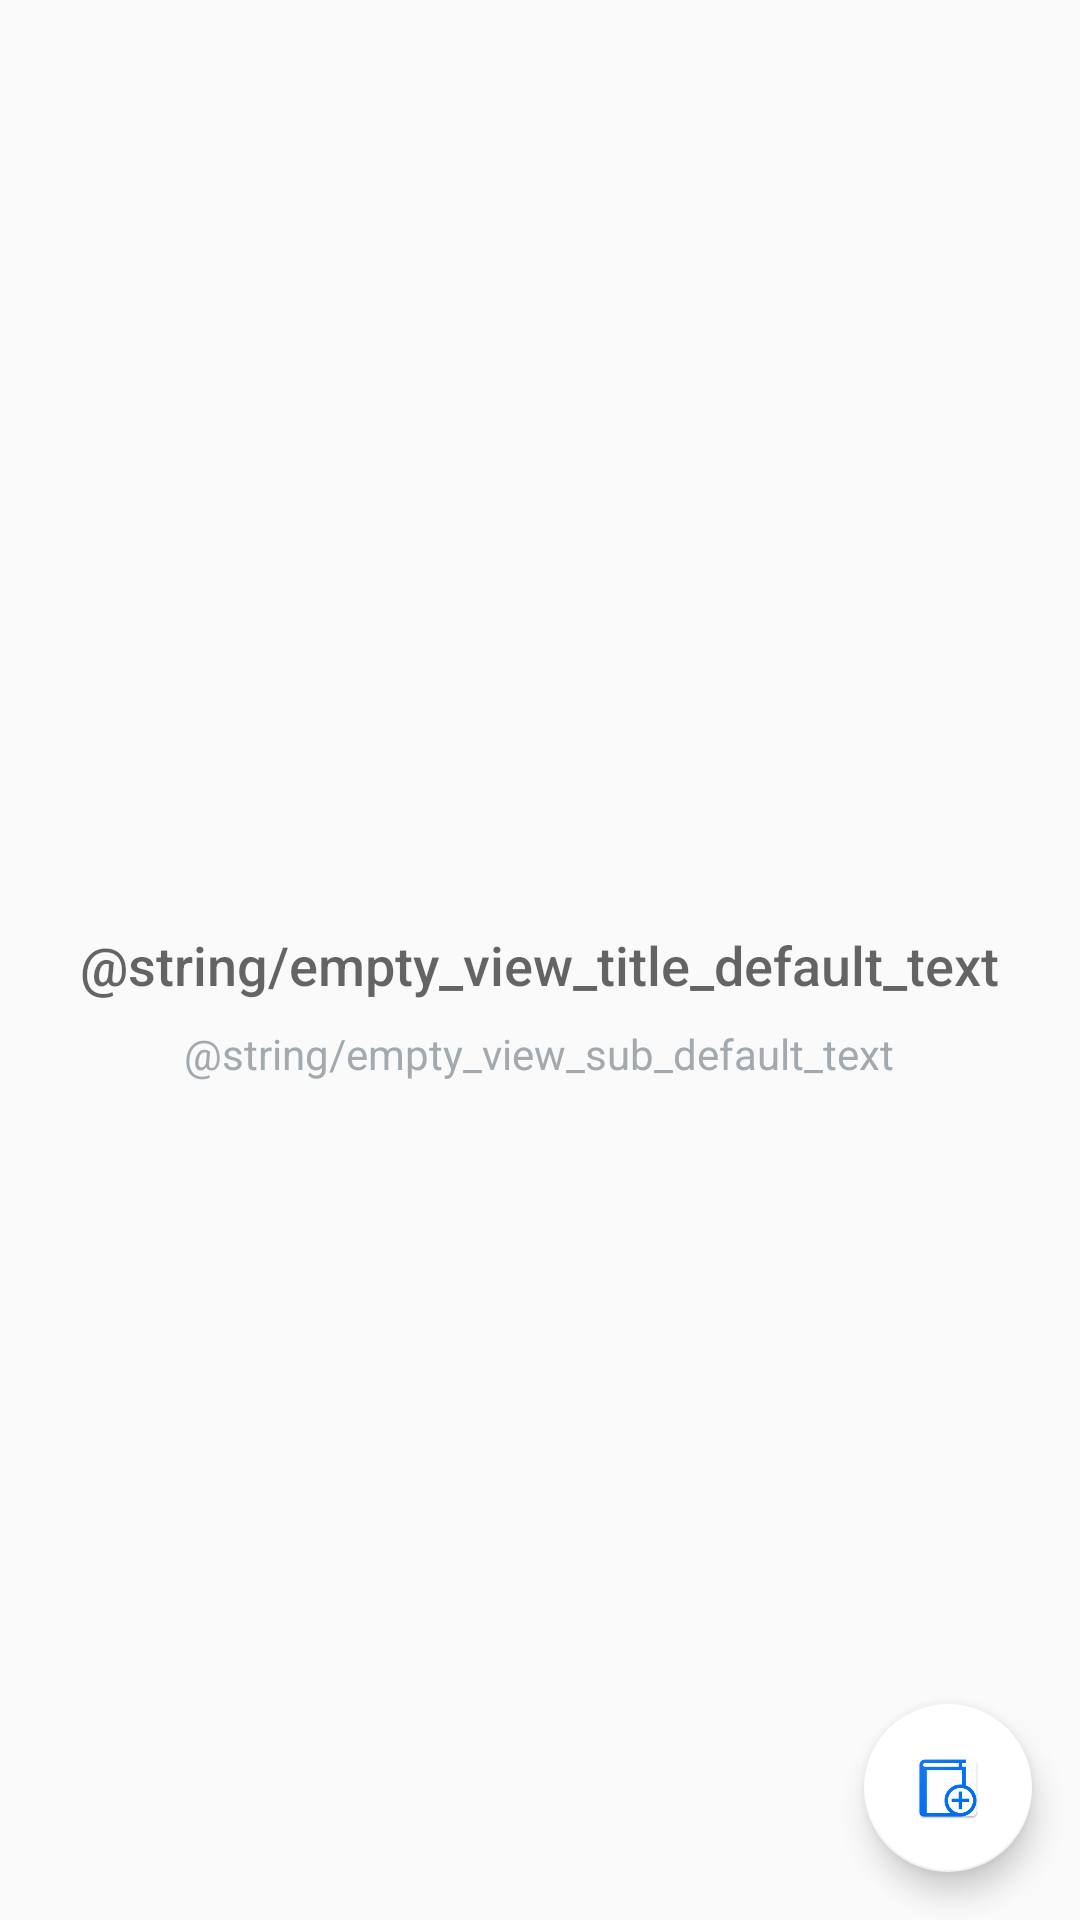

Where icons sit on this 1080px x 1920px app screen, as (x1, y1, x2, y2):
add books: (919, 1759, 977, 1818)
